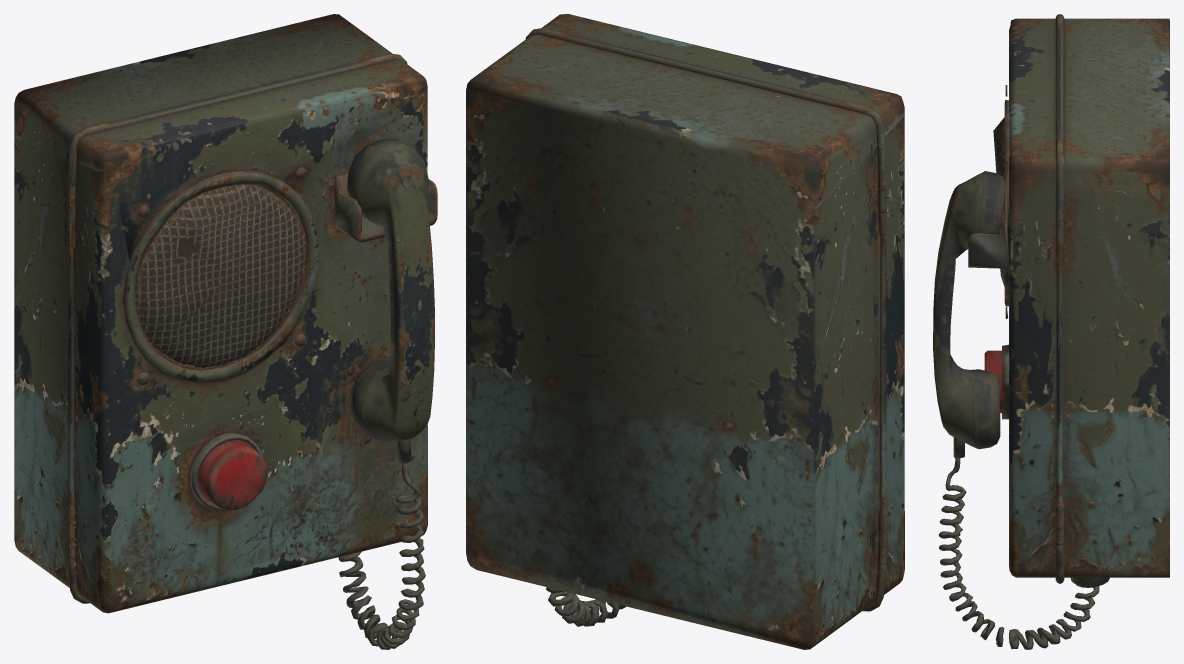
File: silo81_intercom.glb
3 views of the same model, side by side, from view 1: azimuth 30°, elevation 25°; view 2: azimuth 150°, elevation 25°; view 3: azimuth 270°, elevation 25° (orthographic). The views are drawn at different scales.
Bounding box in the file's own units: 0.603 × 0.9512 × 0.397.
1 material, 1 textured.
